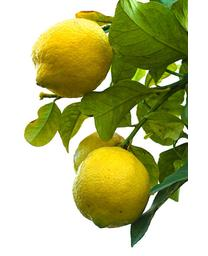lemon: (72, 146, 151, 227), (32, 18, 111, 98)
